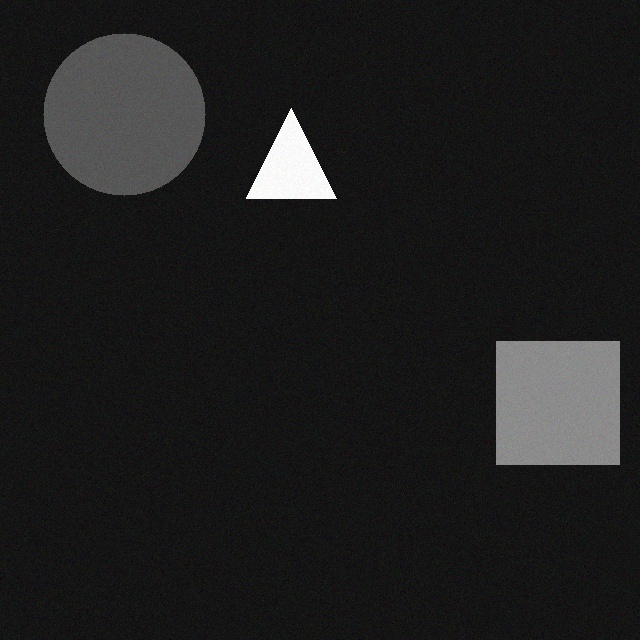circle: (34, 23, 196, 185)
square: (487, 331, 610, 454)
triangle: (237, 98, 327, 188)
